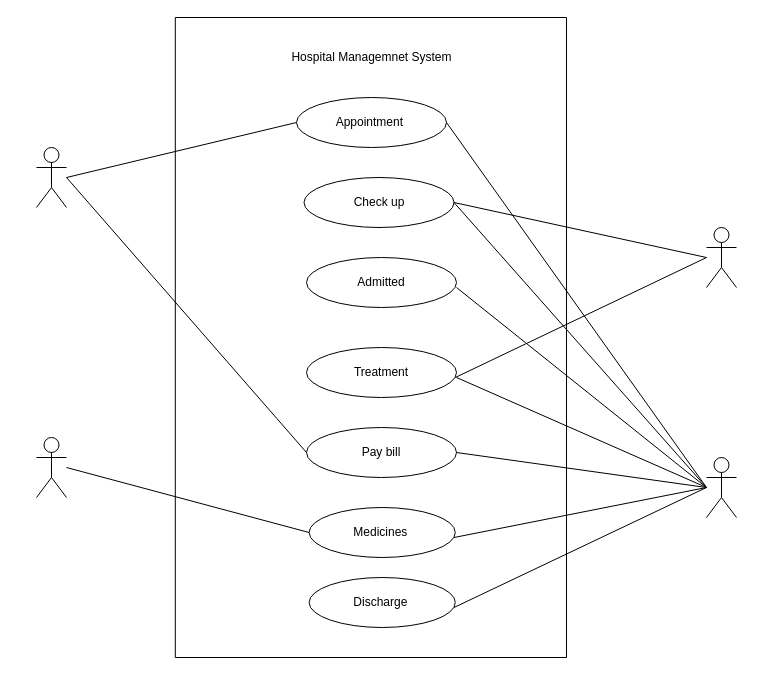
The diagram is 759 pixels wide and 675 high, and some of its shapes have lost their labels. The shapes that lost their labels are listed below. From the top down, each one's box as (x1, y1, x2, y2) in pixels, then its label:
(36, 146, 66, 208): Receptionist
(706, 226, 736, 288): Doctor
(36, 436, 66, 498): Chemist
(706, 456, 736, 518): Patient
